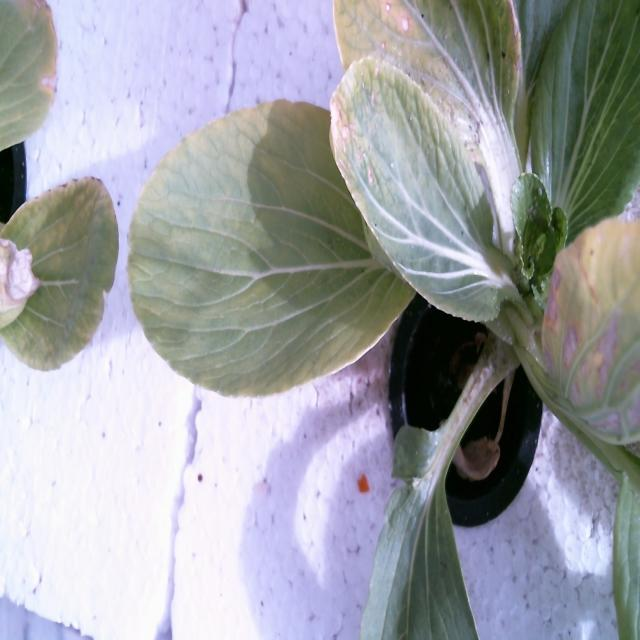pakcoy_tidak_sehat: (126, 0, 640, 474)
